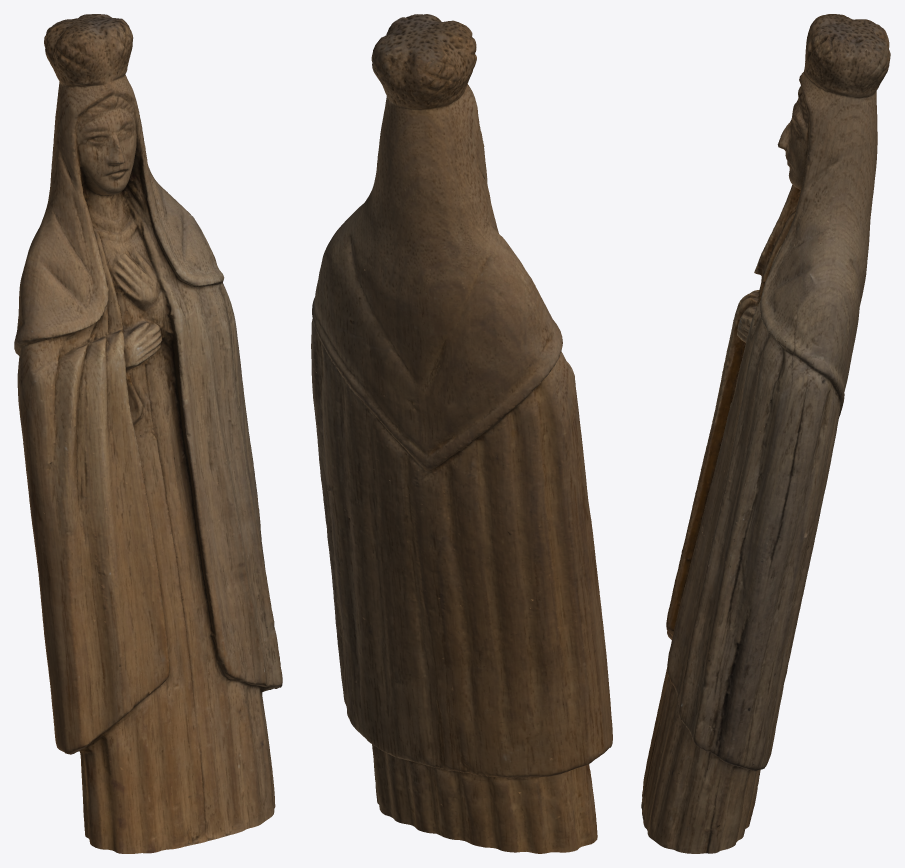
The model's file is MPLW_E_1073_lowpoly.glb.
3 renders of one model, left to right at view 1: azimuth 30°, elevation 25°; view 2: azimuth 150°, elevation 25°; view 3: azimuth 270°, elevation 25°, orthographic. The views are drawn at different scales.
Parts seen in each view (by area): view 1: MPLW_E_1073_lowpoly; view 2: MPLW_E_1073_lowpoly; view 3: MPLW_E_1073_lowpoly.
Part boxes in pixels (x1,y1,x2,y2): MPLW_E_1073_lowpoly: [14, 14, 282, 853]; MPLW_E_1073_lowpoly: [311, 14, 612, 853]; MPLW_E_1073_lowpoly: [641, 14, 890, 853].
Size of the model in its own units: 0.1015 by 0.322 by 0.0937.
Materials: 1 (1 with a texture image).
